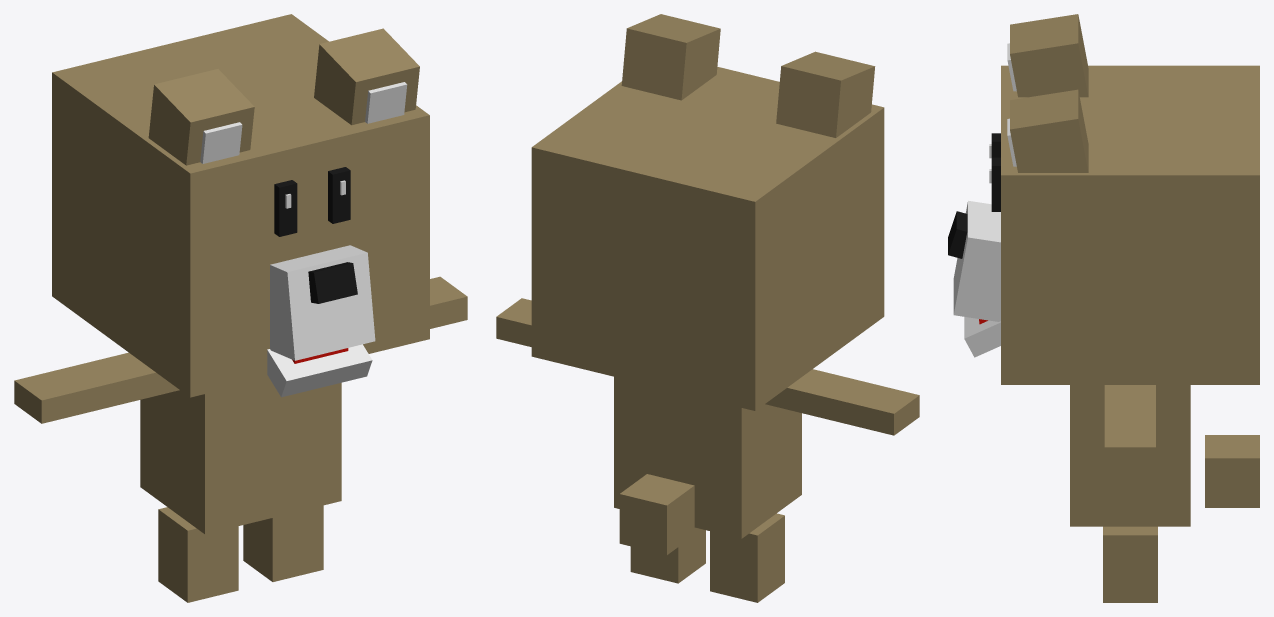
Rendered from bear.fbx.
The picture shows the model from 3 angles, left to right: view 1: azimuth 30°, elevation 25°; view 2: azimuth 150°, elevation 25°; view 3: azimuth 270°, elevation 25°; orthographic projection. The views are drawn at different scales.
Parts seen in each view (by area): view 1: Head, Body2, Nose, ArmR, EarL, EarR, LegR, LegL, Jaw, Nose2, ArmL, EarL2 (+3 smaller); view 2: Head, Body2, EarL, EarR, ArmR, Tail, LegR, LegL, ArmL; view 3: Head, Body2, EarL, EarR, Nose, ArmL, LegL, Tail, Jaw, Nose2, EyeL.
Part boxes in pixels (box(x1,y1,x2,y2)): Head: box(52, 14, 429, 397); Body2: box(140, 378, 341, 534); Nose: box(270, 245, 375, 360); ArmR: box(14, 352, 179, 423); EarL: box(314, 28, 419, 125); EarR: box(148, 69, 254, 165); LegR: box(158, 507, 238, 602); LegL: box(243, 505, 323, 581); Jaw: box(267, 344, 372, 397); Nose2: box(308, 262, 357, 303); ArmL: box(430, 276, 467, 328); EarL2: box(365, 82, 407, 123); Head: box(531, 66, 884, 410); Body2: box(614, 376, 801, 538); EarL: box(621, 14, 720, 100); EarR: box(776, 51, 875, 137); ArmR: box(765, 369, 919, 435); Tail: box(619, 474, 694, 554); LegR: box(710, 513, 784, 602); LegL: box(630, 527, 705, 583); ArmL: box(496, 298, 531, 346); Head: box(1001, 65, 1259, 384); Body2: box(1070, 385, 1190, 526); EarL: box(1010, 89, 1088, 172); EarR: box(1010, 14, 1088, 97); Nose: box(953, 200, 1000, 321); ArmL: box(1104, 385, 1155, 468); LegL: box(1103, 526, 1157, 602); Tail: box(1205, 435, 1259, 507); Jaw: box(964, 317, 1000, 357); Nose2: box(948, 211, 967, 258); EyeL: box(991, 157, 1000, 211).
Bounding box in the file's own units: 5.3 × 6.41 × 3.59.
